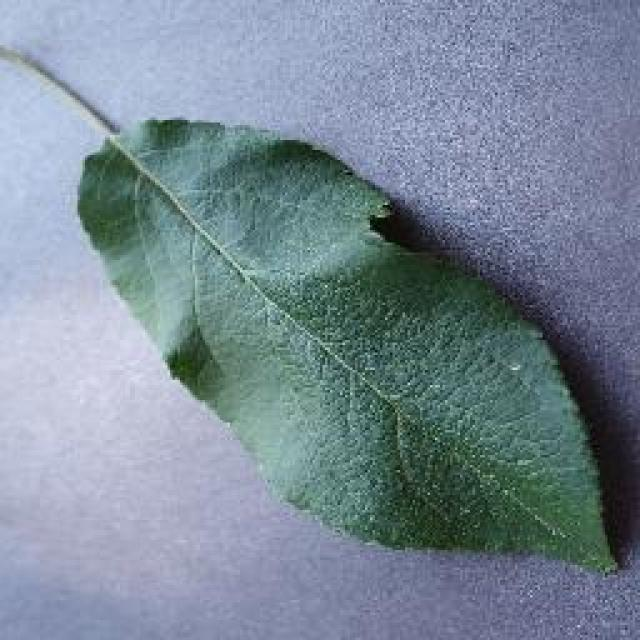apple healthy: (0, 34, 622, 577)
